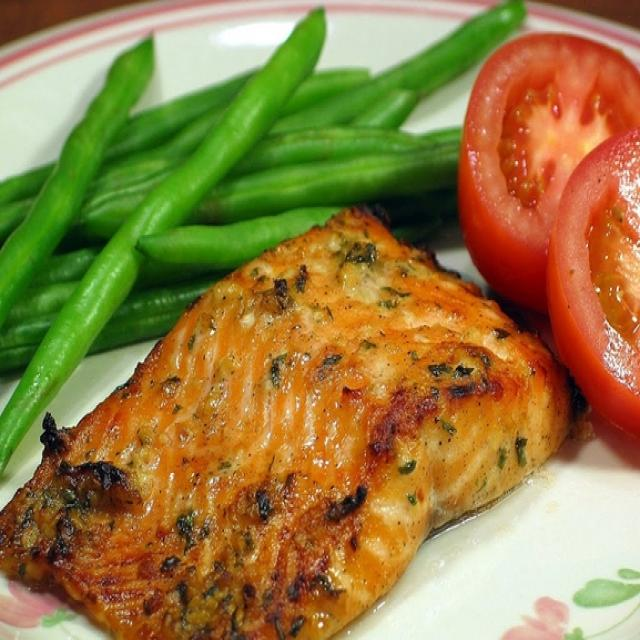熟制海鲜: (11, 15, 621, 628)
